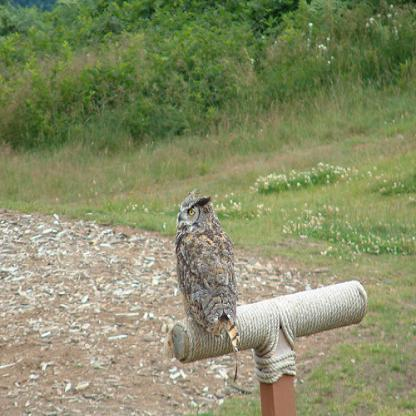bird: (176, 190, 240, 380)
